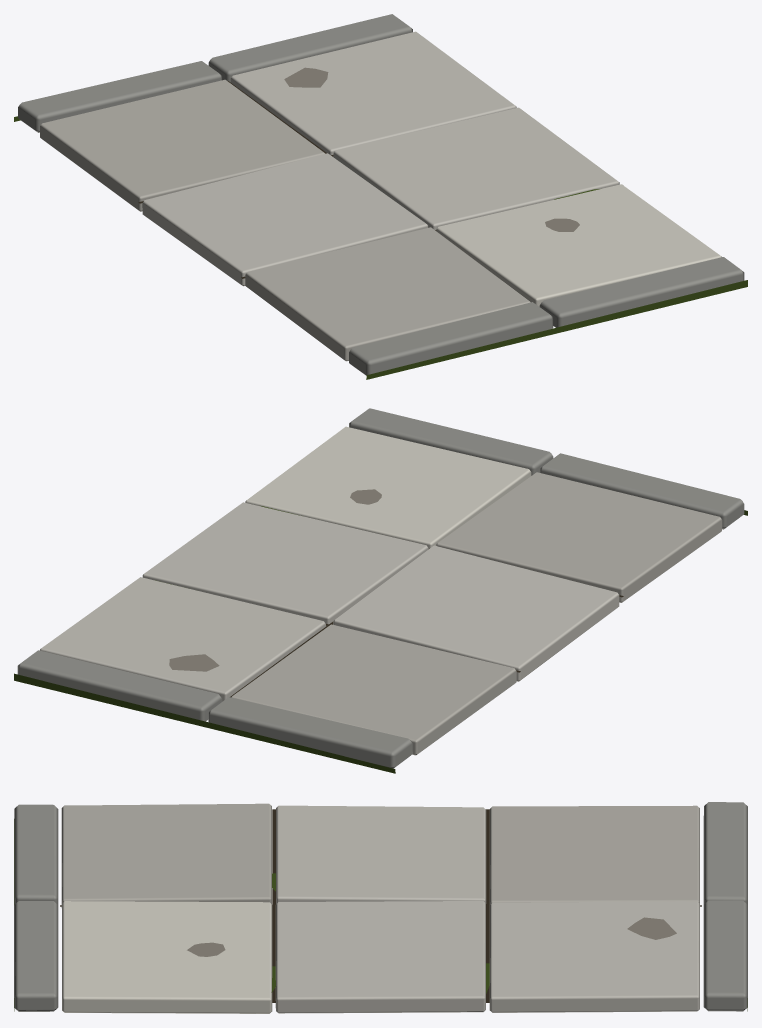
The model's file is paving_strip.glb.
3 renders of one model, top to bottom at view 1: azimuth 30°, elevation 25°; view 2: azimuth 150°, elevation 25°; view 3: azimuth 270°, elevation 25°, orthographic. The views are drawn at different scales.
Parts seen in each view (by area): view 1: pflaster; view 2: pflaster; view 3: pflaster.
Part boxes in pixels (bbox=[...]): pflaster: bbox=[14, 14, 747, 379]; pflaster: bbox=[14, 408, 747, 773]; pflaster: bbox=[14, 802, 747, 1013].
Size of the model in its own units: 1 by 0.0553 by 1.6.
